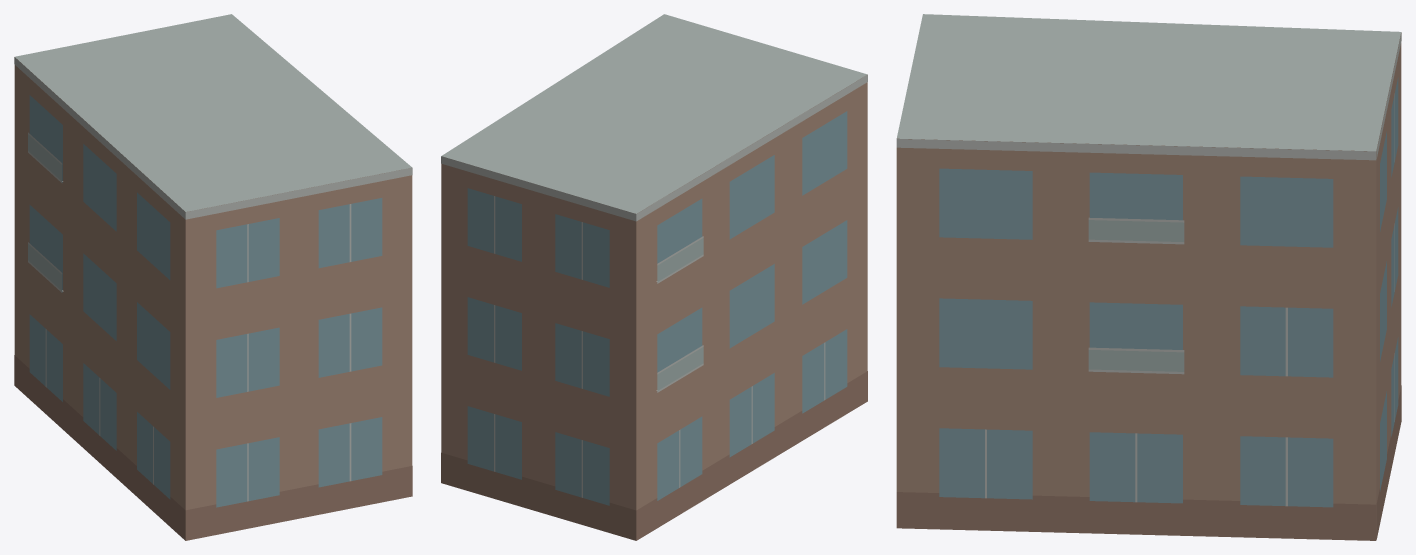
File: survey-upis-32638256.glb
3 renders of one model, left to right at view 1: azimuth 30°, elevation 25°; view 2: azimuth 150°, elevation 25°; view 3: azimuth 270°, elevation 25°, orthographic. The views are drawn at different scales.
Visible parts, largest first — view 1: survey-upis-32638256.tmp; view 2: survey-upis-32638256.tmp; view 3: survey-upis-32638256.tmp.
Boxes of the visible parts, box(x1,y1,x2,y2) form: survey-upis-32638256.tmp: box(14, 14, 412, 540); survey-upis-32638256.tmp: box(441, 14, 867, 540); survey-upis-32638256.tmp: box(896, 14, 1401, 540).
Size of the model in its own units: 7.99 by 10.55 by 12.4.
